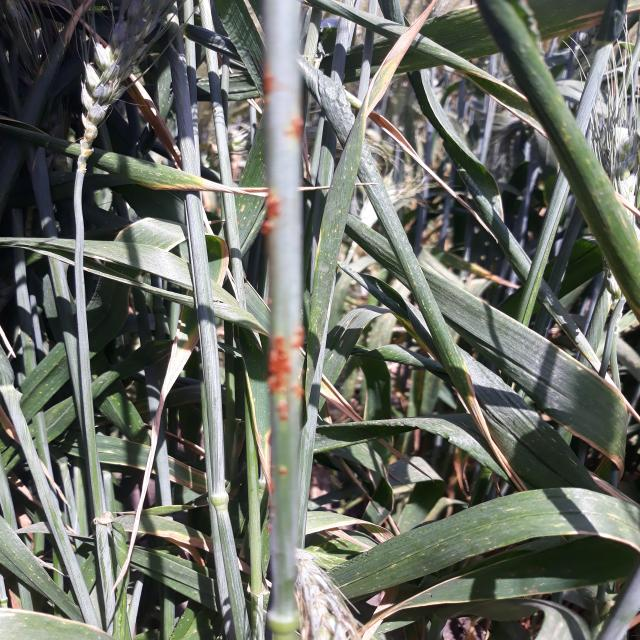black_stem_rust: (213, 3, 335, 640)
